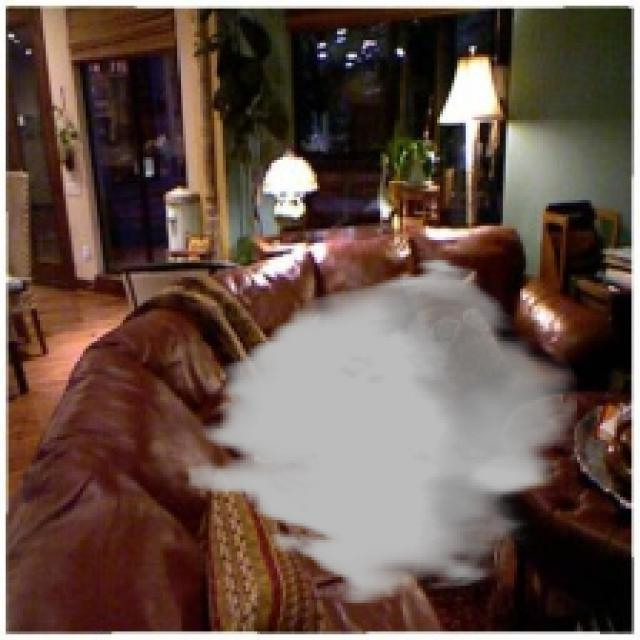Smoke: (188, 257, 578, 606)
